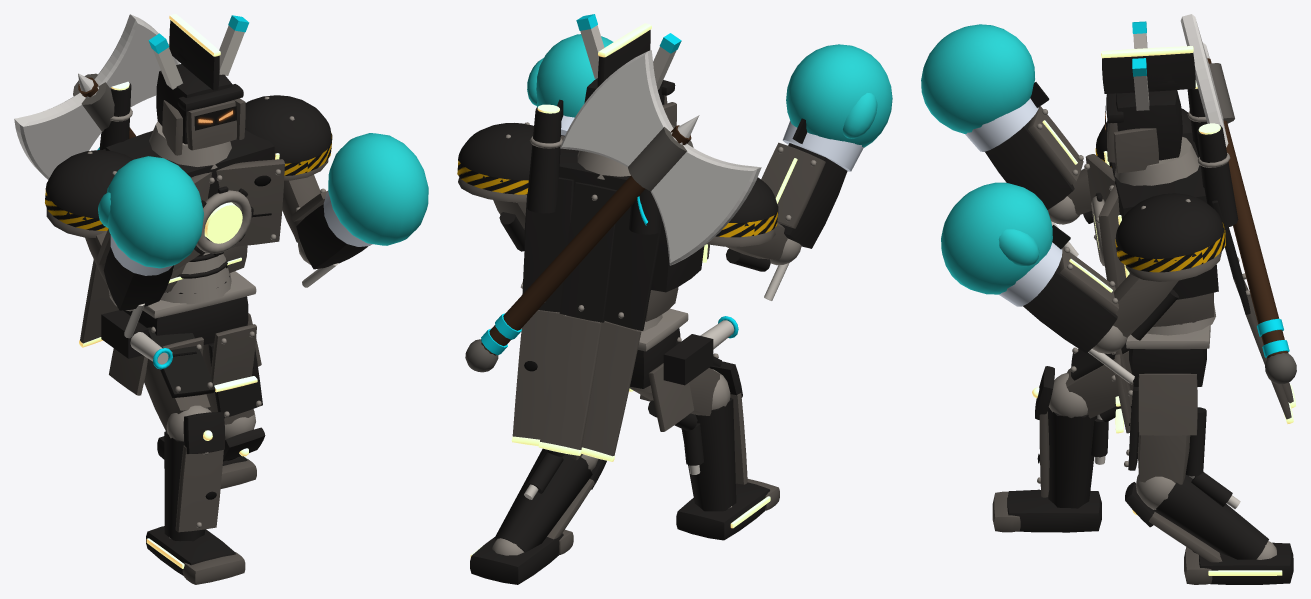
The model's file is warden_alt1.glb.
3 views of the same model, side by side, from view 1: azimuth 30°, elevation 25°; view 2: azimuth 150°, elevation 25°; view 3: azimuth 270°, elevation 25° (orthographic). The views are drawn at different scales.
Visible parts, largest first — view 1: IRON WARDEN ALT 1, object 162, object 138, object 143, object 173, object 119, object 63, object 175, object 22, object 50, object 12, object 129 (+35 smaller); view 2: object 138, object 173, object 175, object 104, object 99, object 166, object 103, object 98, object 40, IRON WARDEN ALT 1, object 109, object 18 (+32 smaller); view 3: object 138, IRON WARDEN ALT 1, object 162, object 143, object 40, object 18, object 153, object 166, object 129, object 25, object 82, object 50 (+44 smaller).
Part boxes in pixels (box(x1,y1,x2,y2)): IRON WARDEN ALT 1: box(109, 253, 261, 395); object 162: box(328, 133, 428, 245); object 138: box(107, 156, 203, 268); object 143: box(245, 95, 331, 165); object 173: box(14, 93, 101, 179); object 119: box(45, 150, 133, 220); object 63: box(216, 159, 284, 246); object 175: box(94, 14, 179, 107); object 22: box(175, 445, 223, 532); object 50: box(105, 129, 274, 256); object 12: box(147, 327, 215, 397); object 129: box(103, 247, 173, 310); object 138: box(786, 44, 892, 147); object 173: box(650, 144, 761, 265); object 175: box(560, 50, 673, 167); object 104: box(540, 315, 601, 449); object 99: box(582, 321, 641, 456); object 166: box(481, 125, 691, 355); object 103: box(559, 182, 616, 322); object 98: box(604, 207, 662, 330); object 40: box(494, 448, 592, 552); IRON WARDEN ALT 1: box(556, 308, 693, 431); object 109: box(512, 310, 564, 439); object 18: box(681, 397, 736, 511); object 138: box(921, 24, 1034, 133); IRON WARDEN ALT 1: box(1114, 303, 1215, 435); object 162: box(941, 182, 1052, 294); object 143: box(1116, 193, 1224, 262); object 40: box(1153, 474, 1268, 559); object 18: box(1047, 407, 1097, 508); object 153: box(1023, 267, 1117, 353); object 166: box(1207, 58, 1288, 358); object 129: box(985, 120, 1074, 209); object 25: box(1007, 489, 1101, 532); object 82: box(1116, 90, 1182, 160); object 50: box(1111, 133, 1218, 299).
Size of what is drawn, in the model's own units: 1.72 by 2.55 by 1.7.
190 materials, 3 textured.
